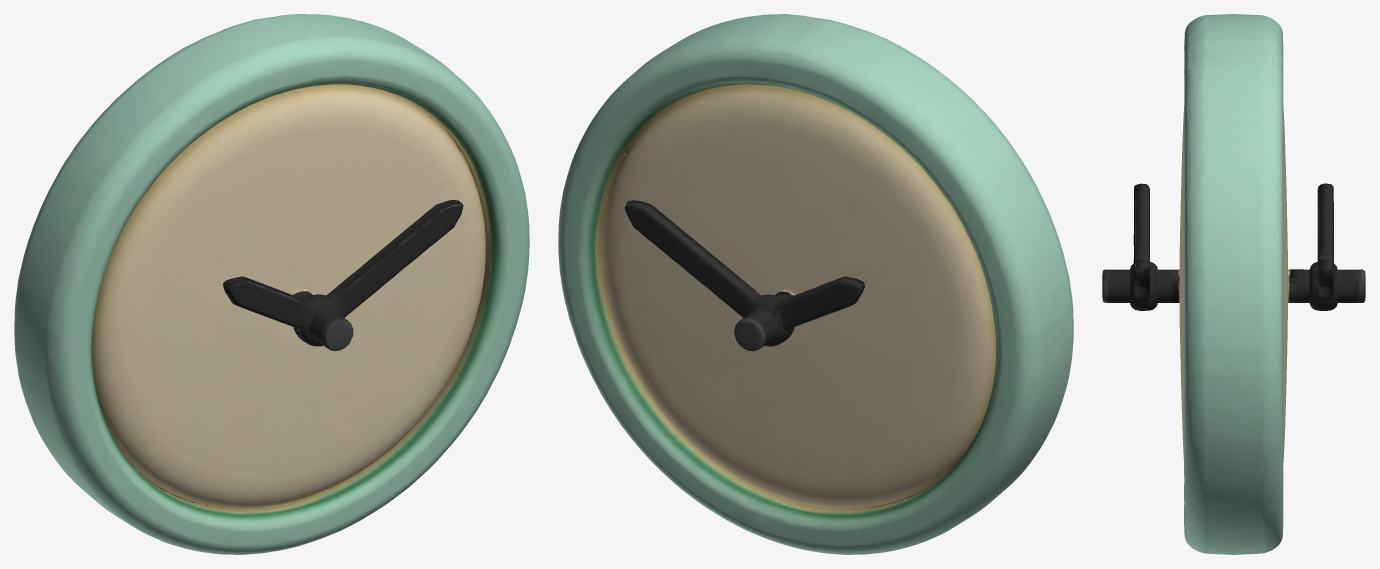
File: wall_clock.glb
The picture shows the model from 3 angles, left to right: view 1: azimuth 30°, elevation 25°; view 2: azimuth 150°, elevation 25°; view 3: azimuth 270°, elevation 25°; orthographic projection. The views are drawn at different scales.
Visible parts, largest first — view 1: tripo_node_5eebdd75-c7c3-4586-8b00-47b6b9d88129; view 2: tripo_node_5eebdd75-c7c3-4586-8b00-47b6b9d88129; view 3: tripo_node_5eebdd75-c7c3-4586-8b00-47b6b9d88129.
Part boxes in pixels (box(x1,y1,x2,y2)): tripo_node_5eebdd75-c7c3-4586-8b00-47b6b9d88129: box(14, 14, 529, 554); tripo_node_5eebdd75-c7c3-4586-8b00-47b6b9d88129: box(558, 14, 1073, 554); tripo_node_5eebdd75-c7c3-4586-8b00-47b6b9d88129: box(1102, 14, 1365, 554).
Size of the model in its own units: 0.9787 by 0.9803 by 0.476.
1 material, 1 textured.
